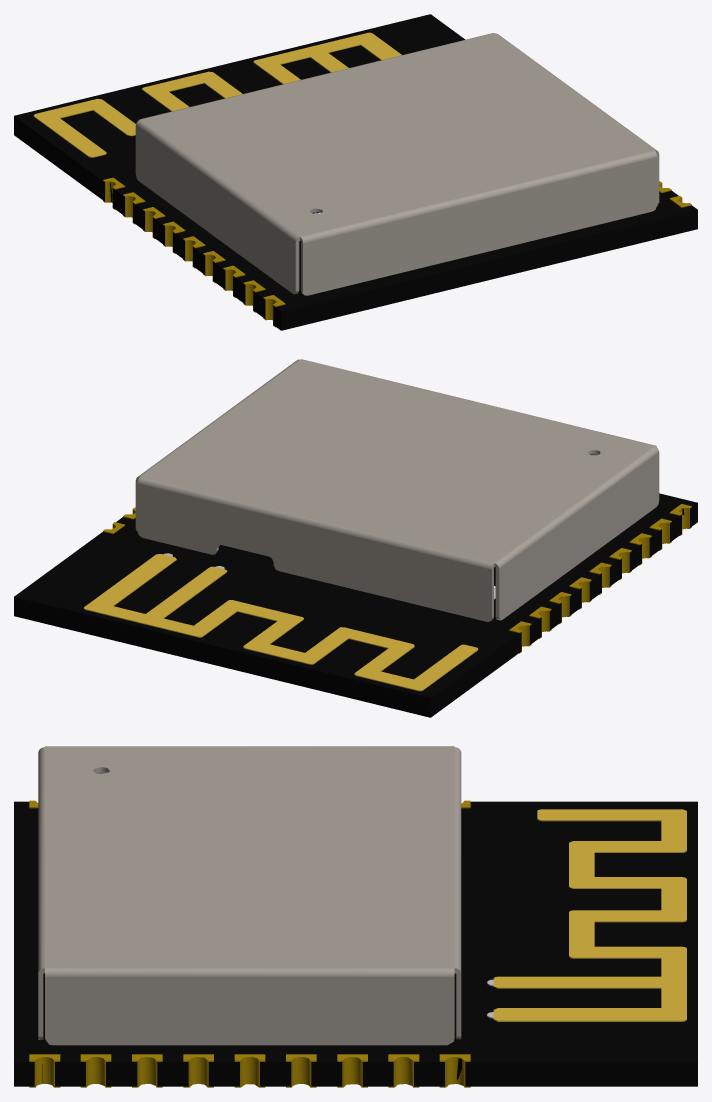
File: esp-esp8684-wroom-02c.glb
3 renders of one model, top to bottom at view 1: azimuth 30°, elevation 25°; view 2: azimuth 150°, elevation 25°; view 3: azimuth 270°, elevation 25°, orthographic. The views are drawn at different scales.
Visible parts, largest first — view 1: 0.4166666666666667_0.3333333333333333_0.3333333333333333_0, 0_0_0_0, 0.6666666666666666_0.4166666666666667_0_0, 0.4166666666666667_0.25_0_0; view 2: 0.4166666666666667_0.3333333333333333_0.3333333333333333_0, 0_0_0_0, 0.6666666666666666_0.4166666666666667_0_0, 0.4166666666666667_0.25_0_0; view 3: 0.4166666666666667_0.3333333333333333_0.3333333333333333_0, 0_0_0_0, 0.6666666666666666_0.4166666666666667_0_0, 0.4166666666666667_0.25_0_0.
Boxes of the visible parts, left/top/right/bottom form: 0.4166666666666667_0.3333333333333333_0.3333333333333333_0: left=135, top=33, right=659, bottom=295; 0_0_0_0: left=14, top=14, right=697, bottom=330; 0.6666666666666666_0.4166666666666667_0_0: left=33, top=32, right=401, bottom=157; 0.4166666666666667_0.25_0_0: left=103, top=177, right=691, bottom=327; 0.4166666666666667_0.3333333333333333_0.3333333333333333_0: left=135, top=359, right=659, bottom=621; 0_0_0_0: left=14, top=493, right=697, bottom=717; 0.6666666666666666_0.4166666666666667_0_0: left=84, top=554, right=478, bottom=691; 0.4166666666666667_0.25_0_0: left=103, top=504, right=691, bottom=653; 0.4166666666666667_0.3333333333333333_0.3333333333333333_0: left=38, top=746, right=461, bottom=1045; 0_0_0_0: left=14, top=801, right=697, bottom=1086; 0.6666666666666666_0.4166666666666667_0_0: left=493, top=809, right=686, bottom=1021; 0.4166666666666667_0.25_0_0: left=29, top=800, right=470, bottom=1087.
Size of the model in its own units: 1.8 by 0.3235 by 2.
